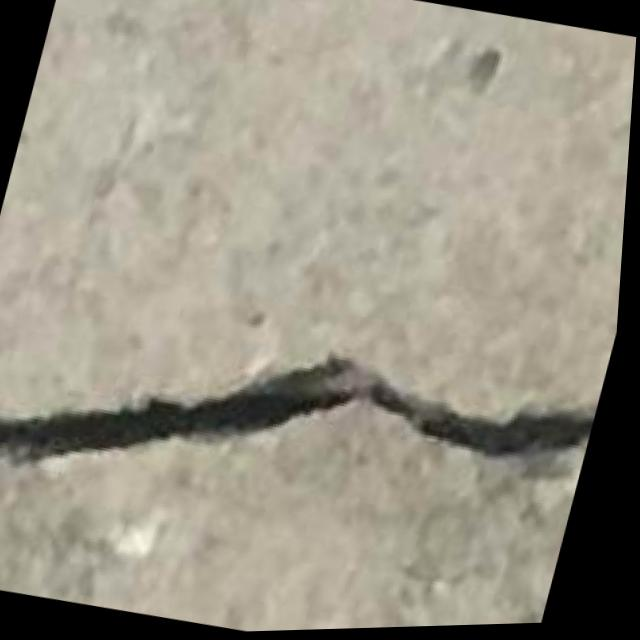Crack: (0, 251, 594, 582)
